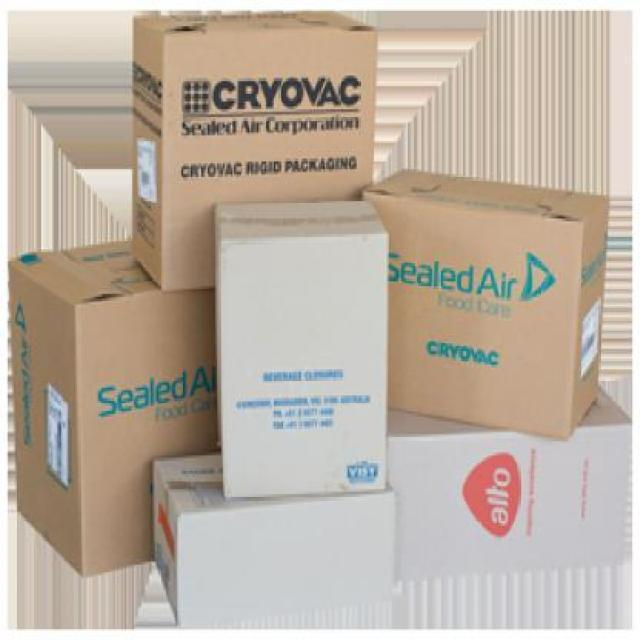box: (9, 239, 222, 575), (130, 12, 379, 290), (371, 168, 605, 443), (382, 380, 635, 583), (216, 200, 387, 490), (153, 453, 395, 625)
